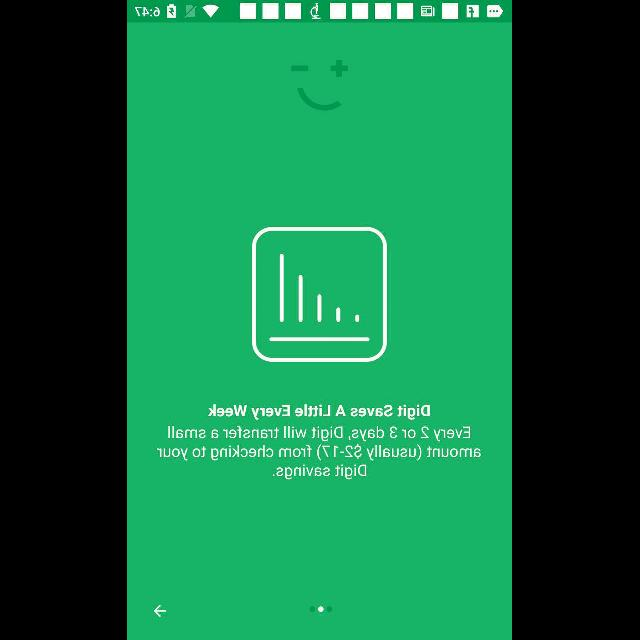icon: (154, 604, 168, 618)
image: (252, 226, 388, 364), (290, 59, 350, 112)
pageindicator: (311, 606, 334, 612)
text: (157, 425, 483, 481), (208, 404, 432, 420)
uppertaskbar: (128, 1, 512, 23)
